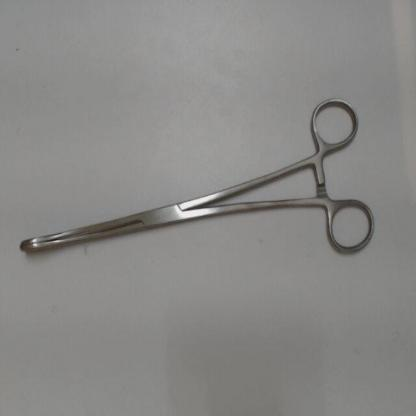Sponge Forceps: (12, 84, 383, 264)
